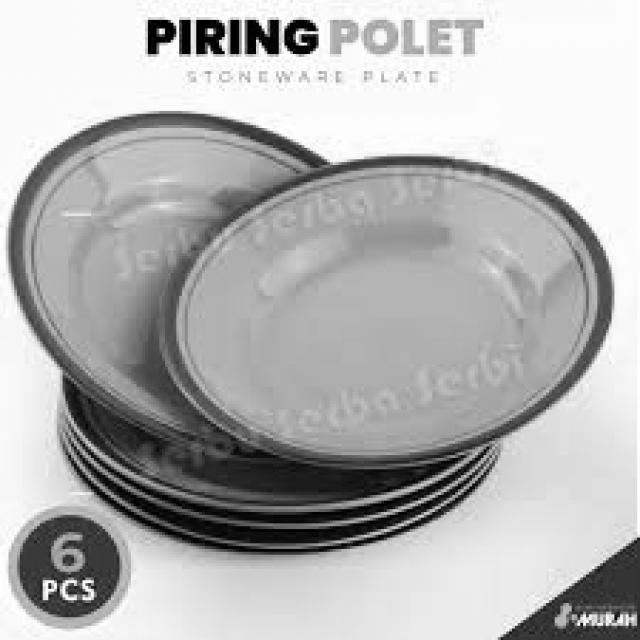dish: (138, 131, 640, 482)
